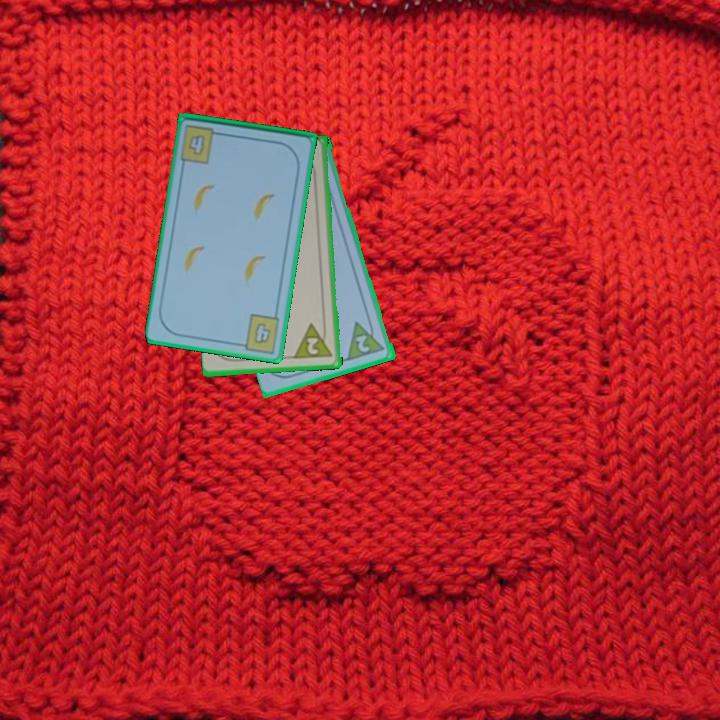2p: (292, 320, 336, 362), (352, 332, 373, 356)
4b: (235, 310, 283, 355), (185, 131, 208, 159)
